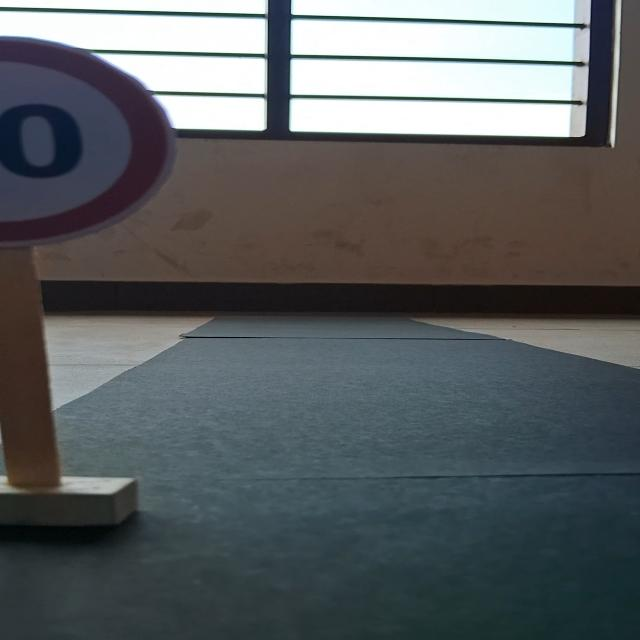Reject: (0, 28, 188, 248)
